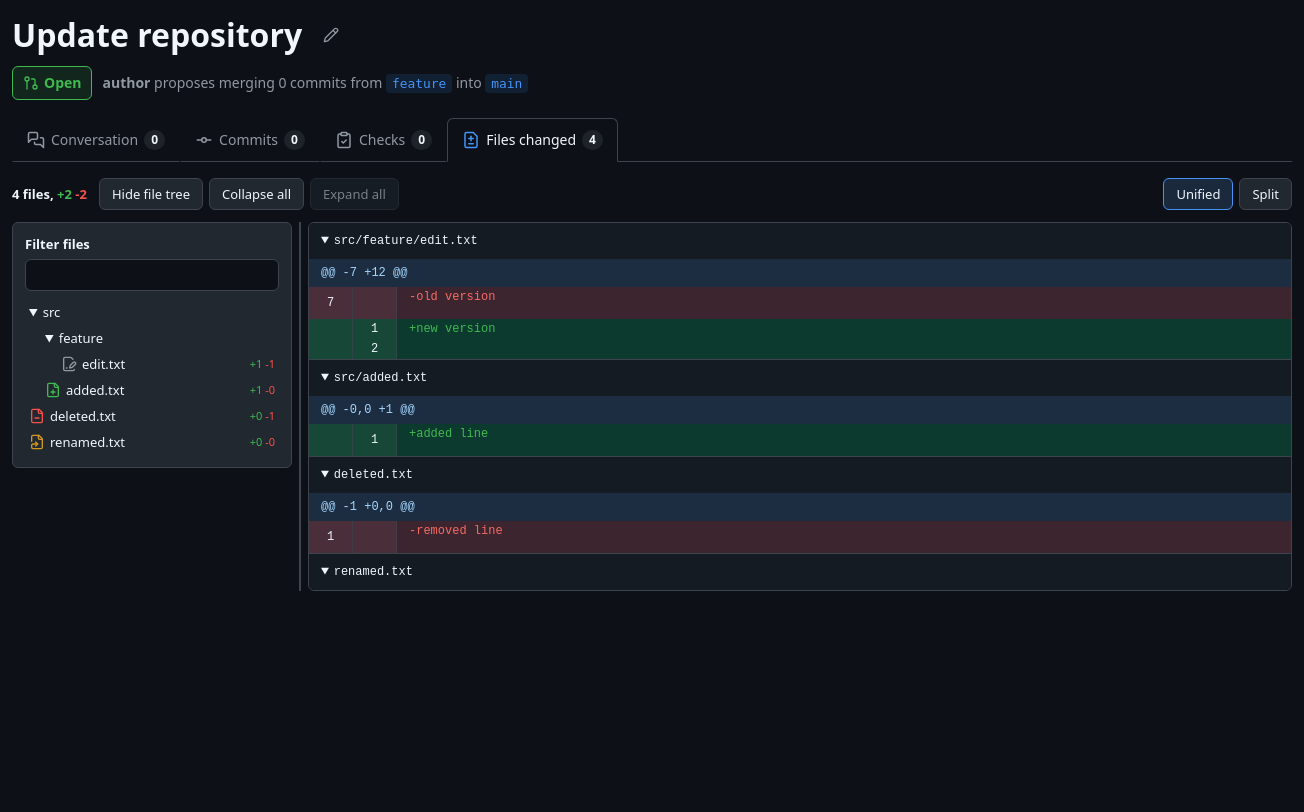
Test: PullRequestDetailPage › groups and filters files with semantic status, totals and selection that opens a folded patch
The width and height of the screenshot is (1304, 812).
Earlier steps of the test are not shown.
Click the button "Collapse all" at (256, 194), box [209, 178, 304, 210]
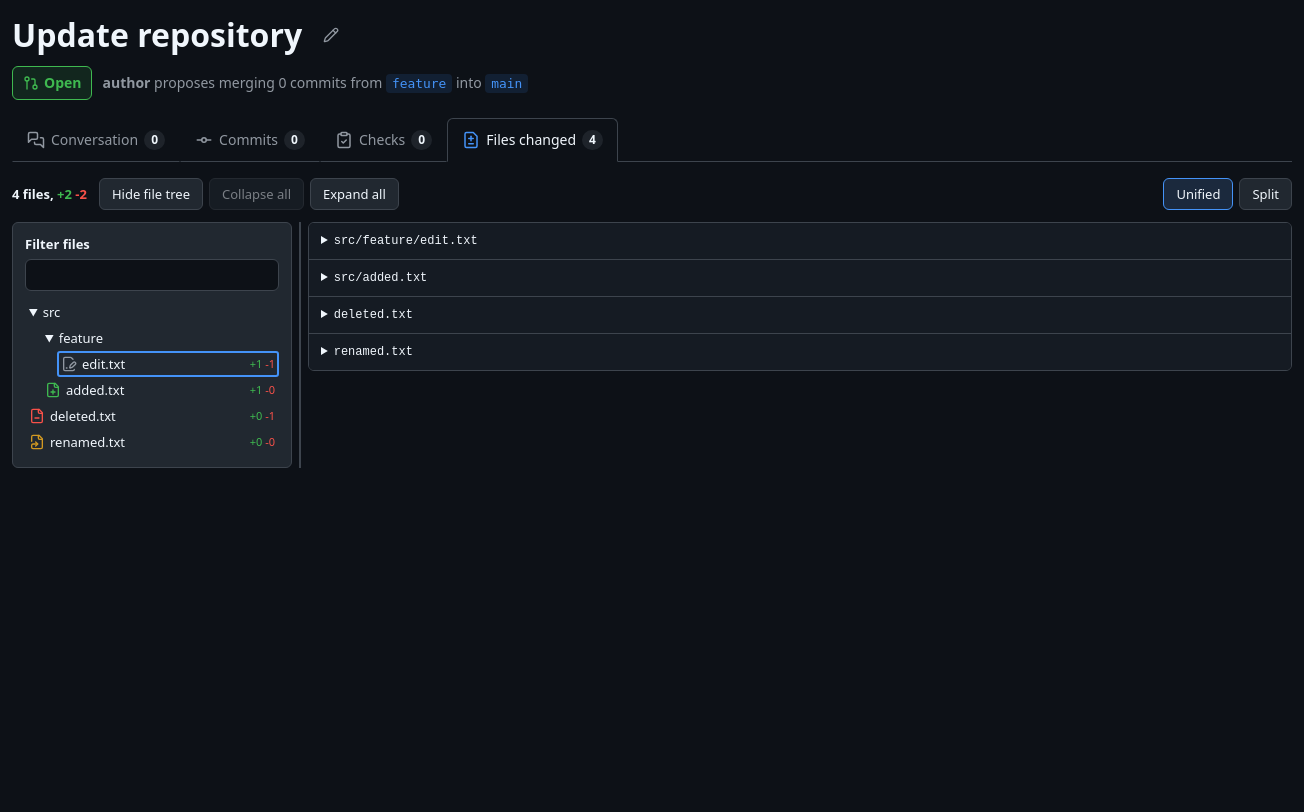
Result: the text "src/feature/edit.txt" does not have attribute open at [309, 223, 1291, 259]
Press Enter
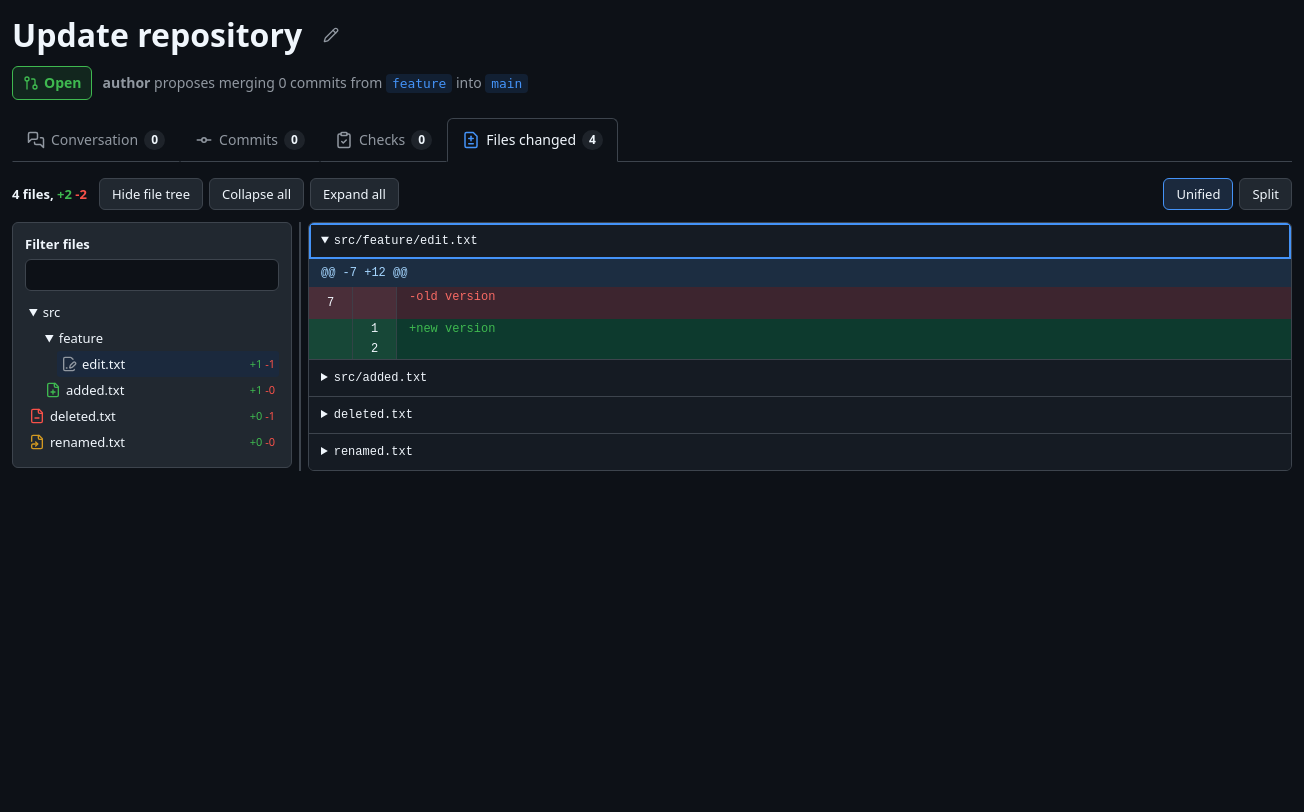
Result: the link named "Modified edit.txt +1 -1" has attribute aria-current="location" at [57, 351, 279, 377]
Result: the text "src/feature/edit.txt" has attribute open at [309, 223, 1291, 359]
Click the button "Expand all" at (354, 194), box [310, 178, 399, 210]
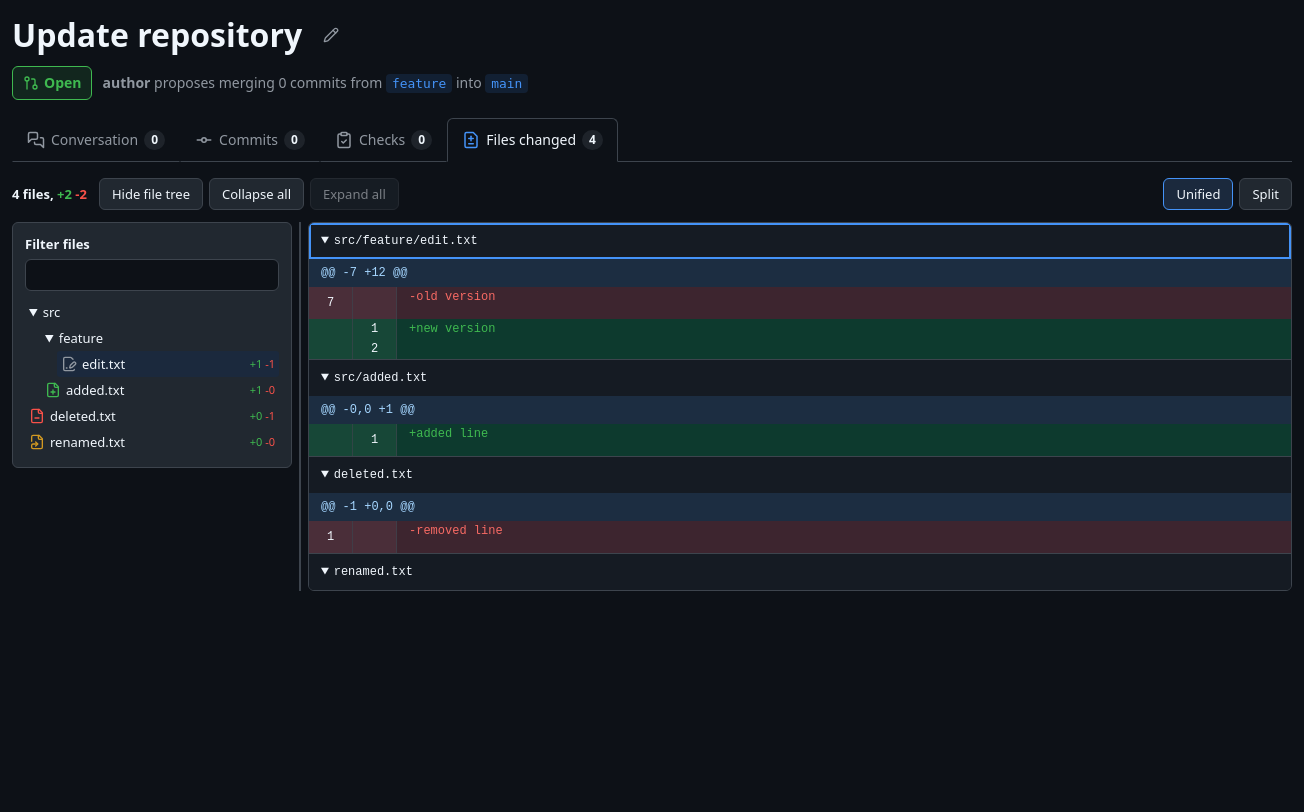
Result: the text "deleted.txt" has attribute open at [309, 457, 1291, 553]
Click the heading "src/feature/edit.txt" at (406, 241), box [309, 223, 1291, 259]
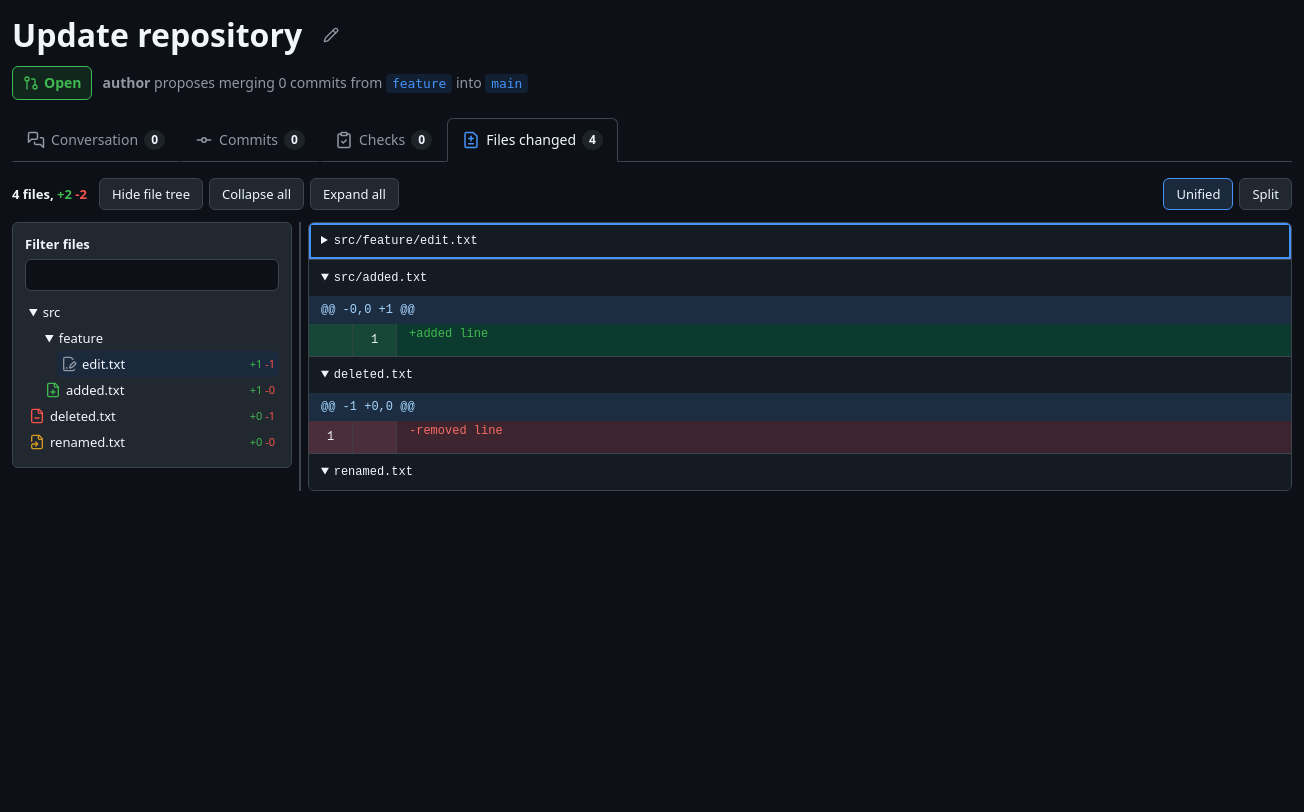
Result: the text "src/feature/edit.txt" does not have attribute open at [309, 223, 1291, 259]
Type "SRC/FEATURE" into the field labelled "Filter files" at (152, 275), box [25, 259, 279, 291]
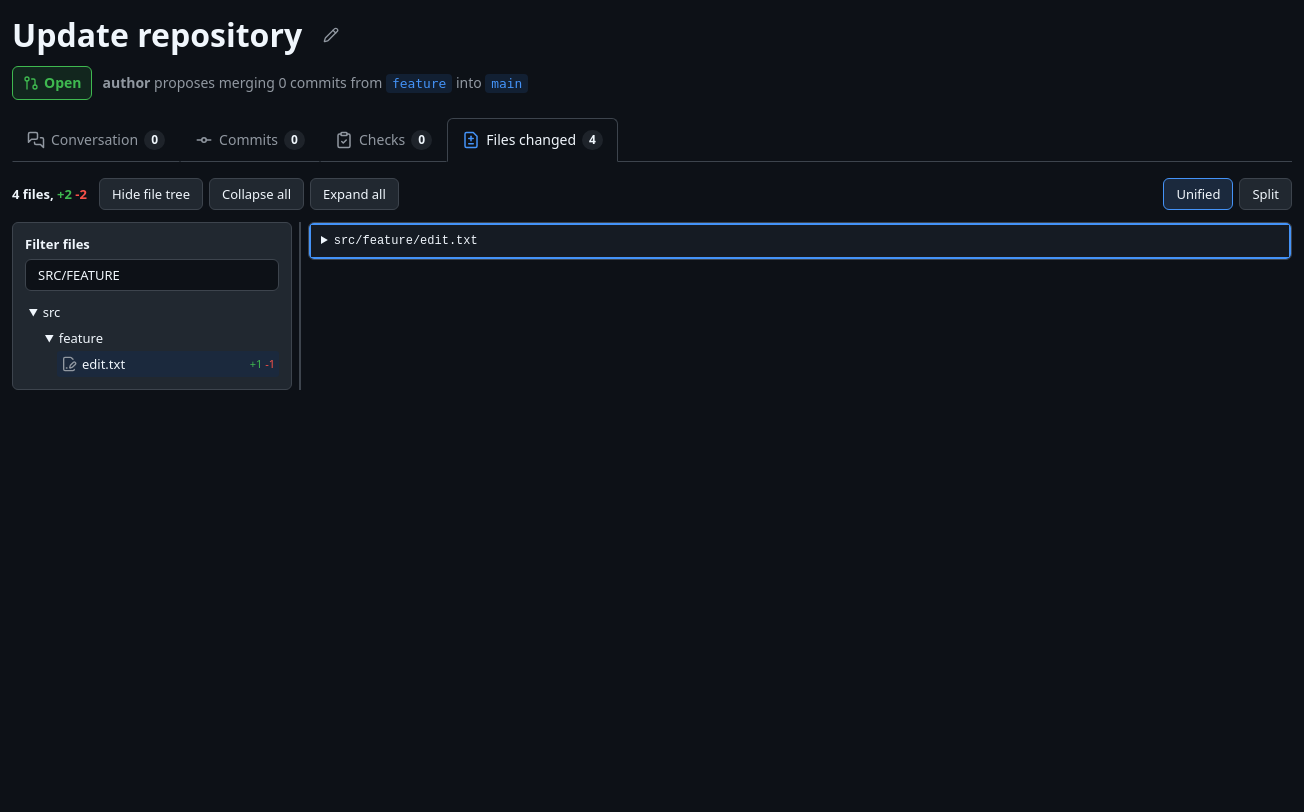
Replace the text in the field labelled "Filter files" with "unmatched" at (152, 275), box [25, 259, 279, 291]
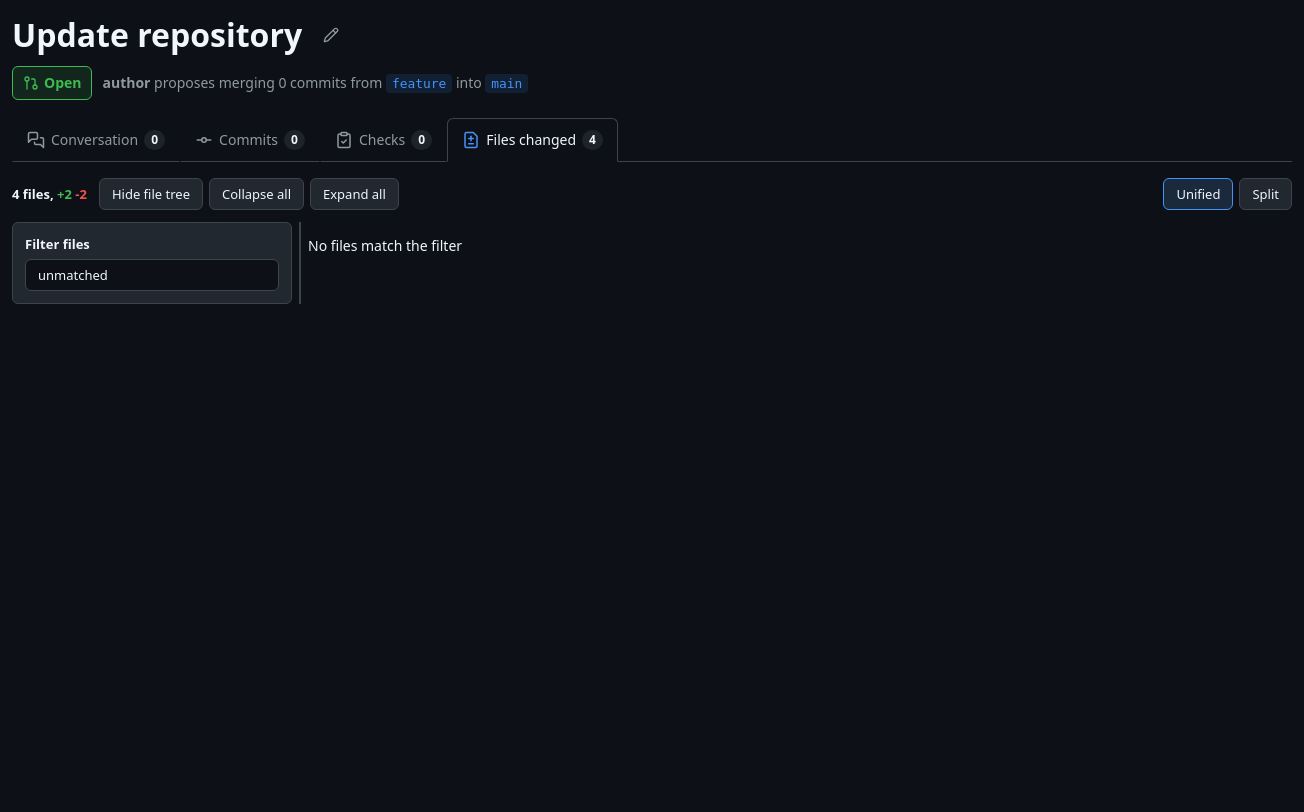
Result: the text "No files match the filter" is shown at [308, 236, 462, 255]
